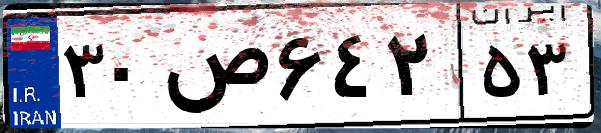0: (110, 28, 158, 98)
2: (385, 28, 445, 110)
3: (57, 26, 110, 100), (525, 38, 570, 115)
4: (330, 28, 385, 110)
5: (475, 38, 525, 113)
6: (270, 28, 330, 110)
ص: (158, 20, 270, 120)
